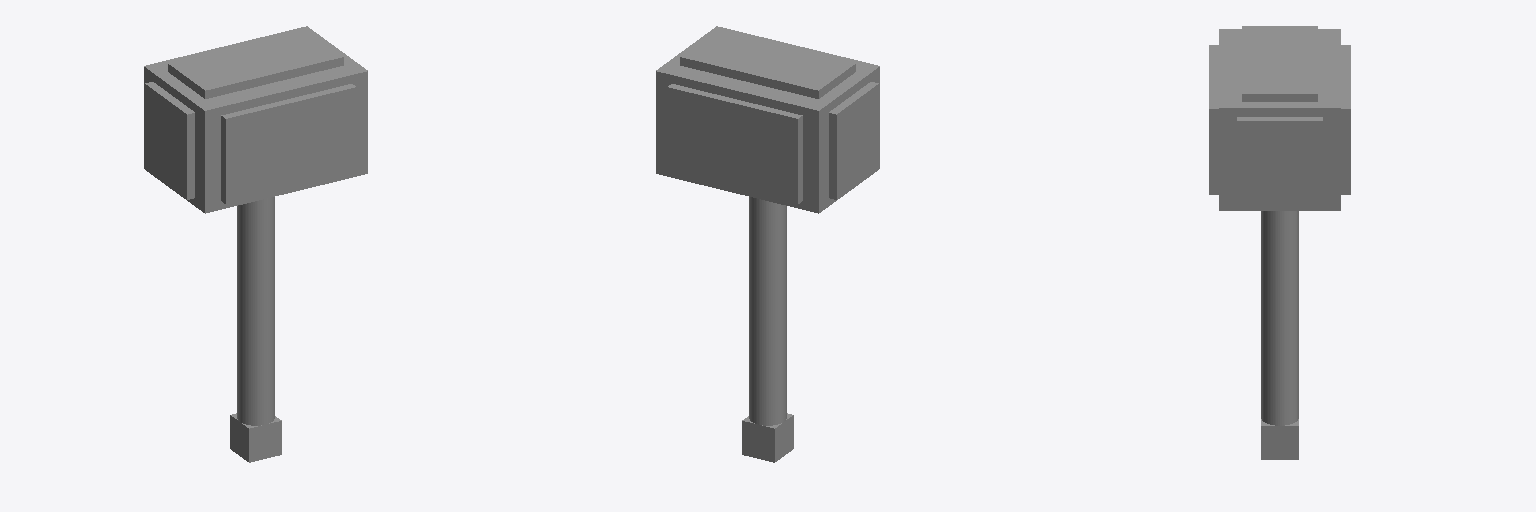
File: itemwoodhammer.obj
3 views of the same model, side by side, from view 1: azimuth 30°, elevation 25°; view 2: azimuth 150°, elevation 25°; view 3: azimuth 270°, elevation 25° (orthographic).
Visible parts, largest first — view 1: HammerHead_Cube.002, HammerHandle_Cylinder.003, BottomHammer_Cube.003; view 2: HammerHead_Cube.002, HammerHandle_Cylinder.003, BottomHammer_Cube.003; view 3: HammerHead_Cube.002, HammerHandle_Cylinder.003, BottomHammer_Cube.003.
Boxes of the visible parts, x1,y1,x2,y2 form: HammerHead_Cube.002: [144, 26, 367, 213]; HammerHandle_Cylinder.003: [237, 197, 274, 425]; BottomHammer_Cube.003: [230, 413, 281, 462]; HammerHead_Cube.002: [656, 26, 879, 213]; HammerHandle_Cylinder.003: [749, 197, 786, 425]; BottomHammer_Cube.003: [742, 413, 793, 462]; HammerHead_Cube.002: [1209, 26, 1350, 210]; HammerHandle_Cylinder.003: [1261, 211, 1298, 425]; BottomHammer_Cube.003: [1261, 419, 1298, 459].
Bounding box in the file's own units: 0.6875 × 1.43 × 0.4688.